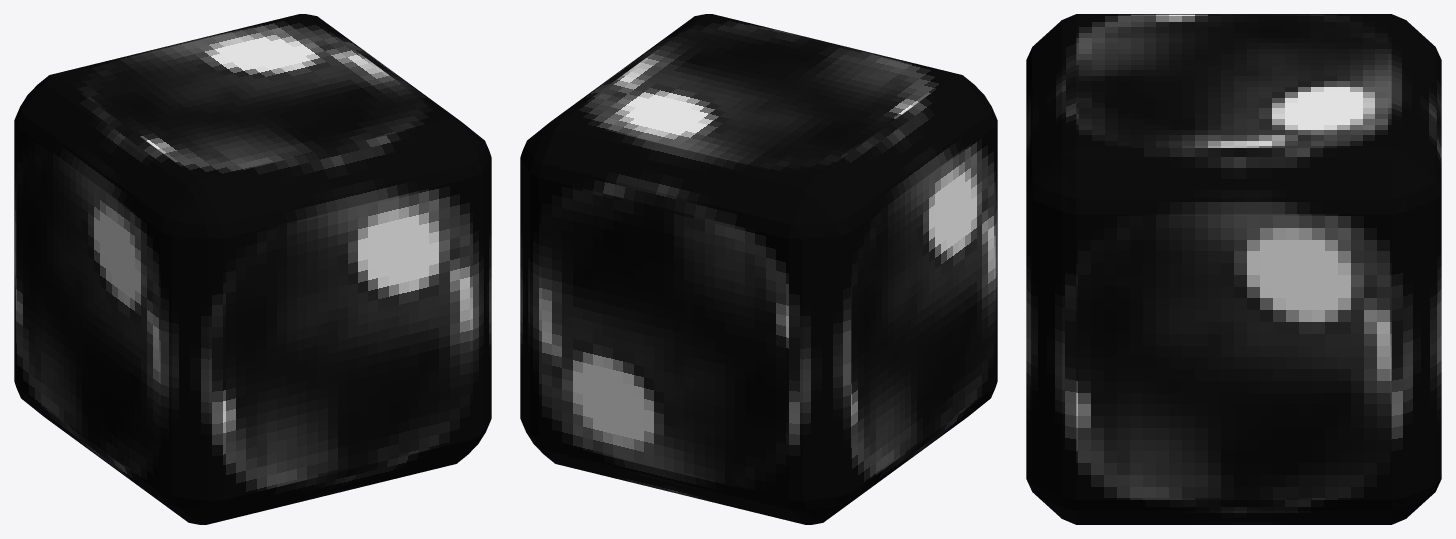
Rendered from Itembox.obj.
The picture shows the model from 3 angles, left to right: view 1: azimuth 30°, elevation 25°; view 2: azimuth 150°, elevation 25°; view 3: azimuth 270°, elevation 25°; orthographic projection. The views are drawn at different scales.
Visible parts, largest first — view 1: polygon1; view 2: polygon1; view 3: polygon1.
Boxes of the visible parts, x1,y1,x2,y2 form: polygon1: [14, 14, 491, 524]; polygon1: [520, 14, 997, 524]; polygon1: [1026, 14, 1441, 524].
Bounding box in the file's own units: 89.3 × 89.3 × 89.3.
